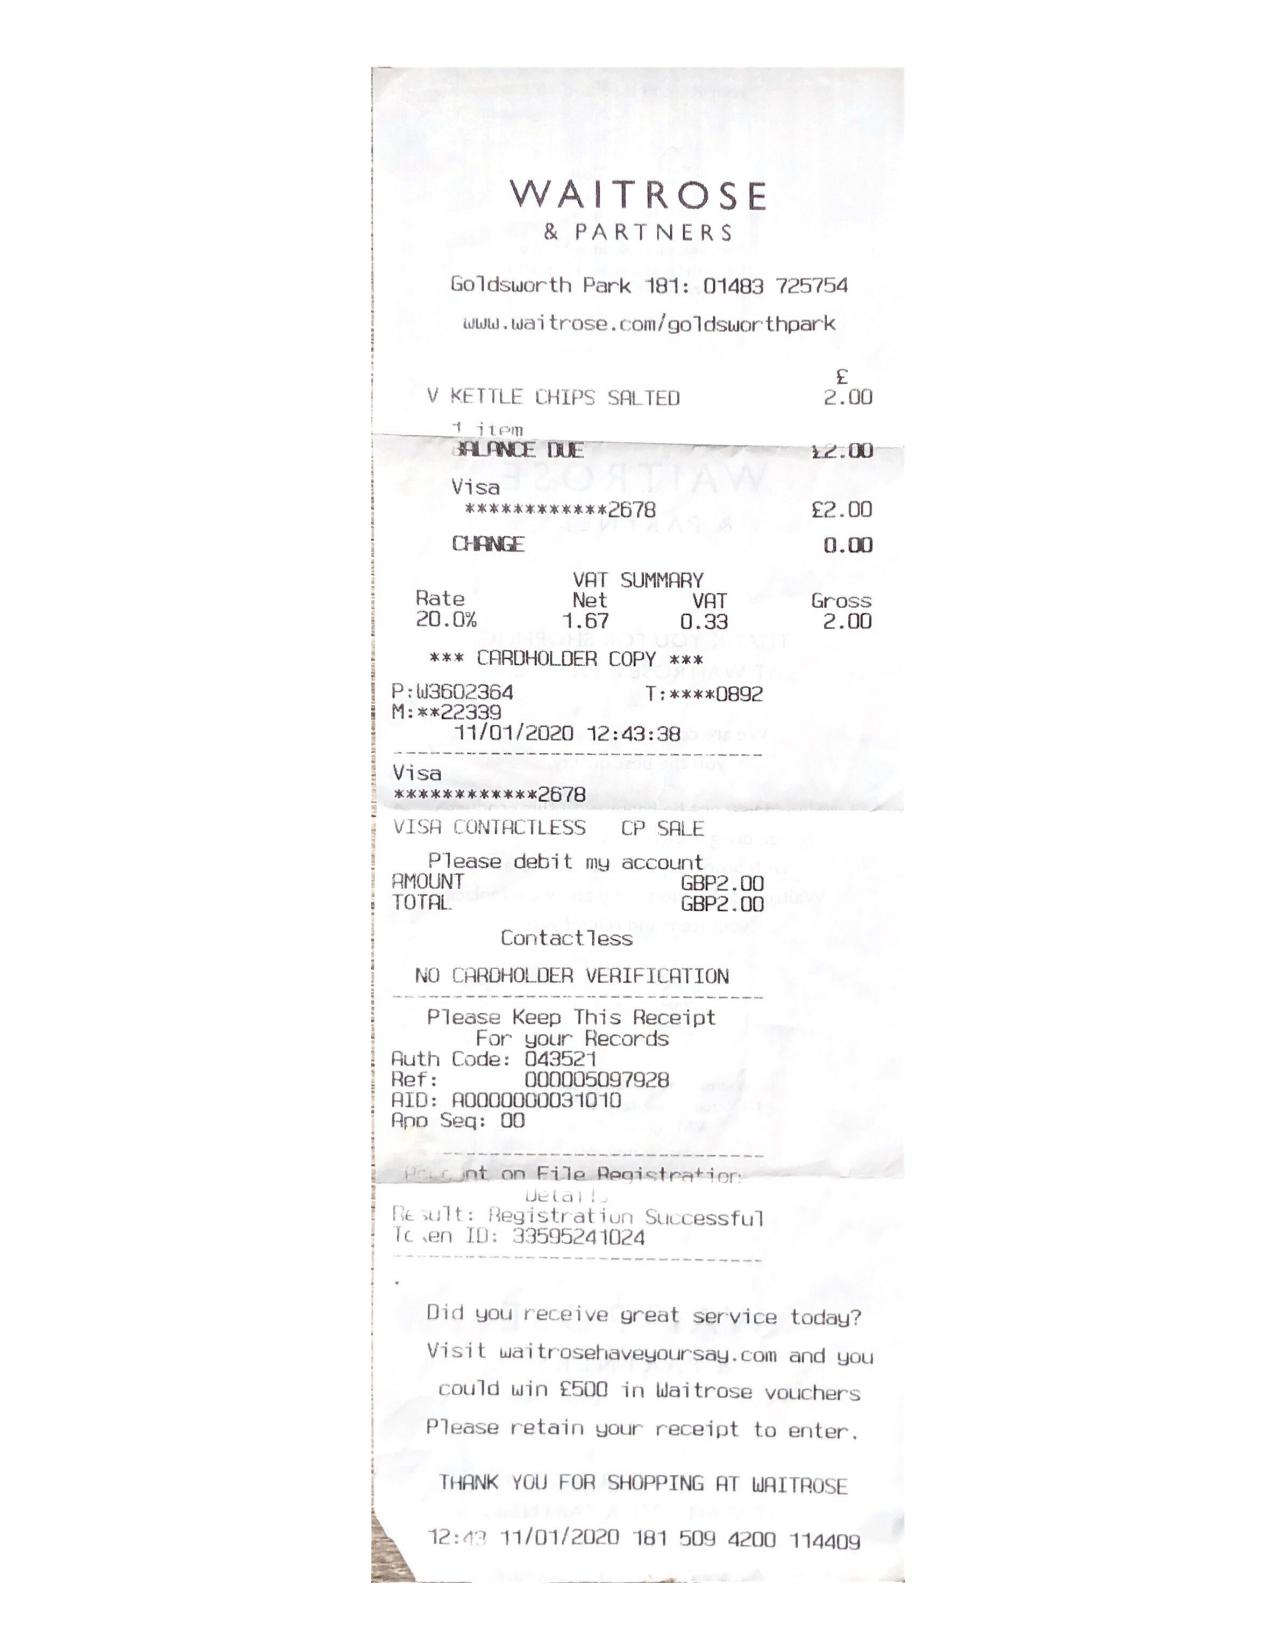Amount: (812, 384, 872, 404)
Date: (455, 722, 572, 741)
company_name: (510, 178, 765, 241)
